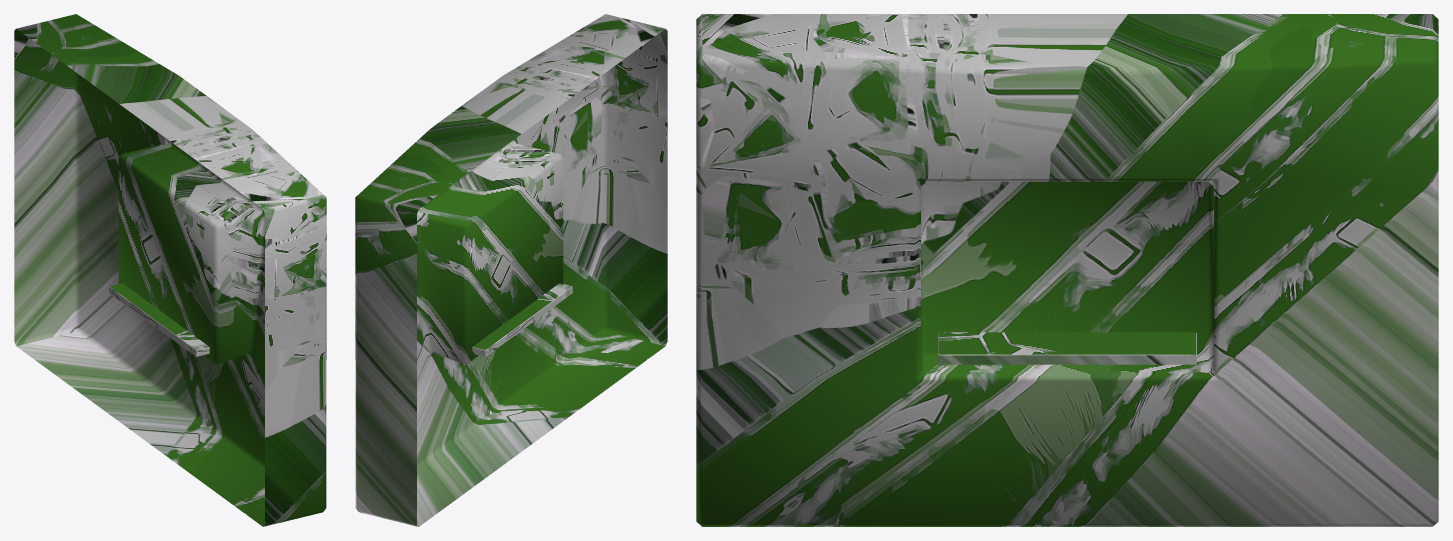
File: backwall.fbx
3 renders of one model, left to right at view 1: azimuth 30°, elevation 25°; view 2: azimuth 150°, elevation 25°; view 3: azimuth 270°, elevation 25°, orthographic. The views are drawn at different scales.
Parts seen in each view (by area): view 1: Cube.013; view 2: Cube.013; view 3: Cube.013.
Part boxes in pixels (<box>): Cube.013: <box>14,14,326,526</box>; Cube.013: <box>355,14,667,526</box>; Cube.013: <box>696,14,1438,526</box>.
Bounding box in the file's own units: 245 × 960 × 1374.
